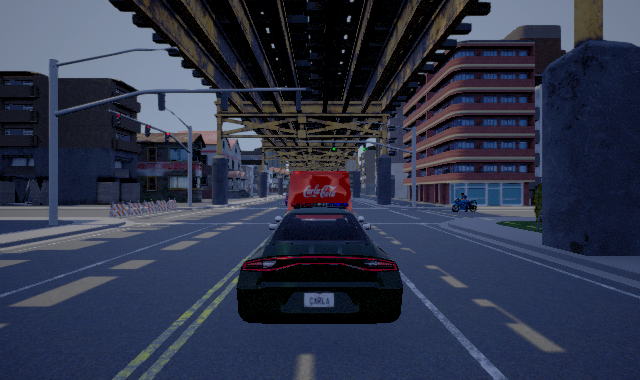motobike: (451, 192, 478, 213)
traffic_light: (114, 113, 121, 127), (145, 124, 151, 137), (165, 132, 170, 143), (363, 142, 366, 151), (332, 142, 335, 151)
vehicle: (236, 208, 403, 324), (286, 170, 352, 208)
